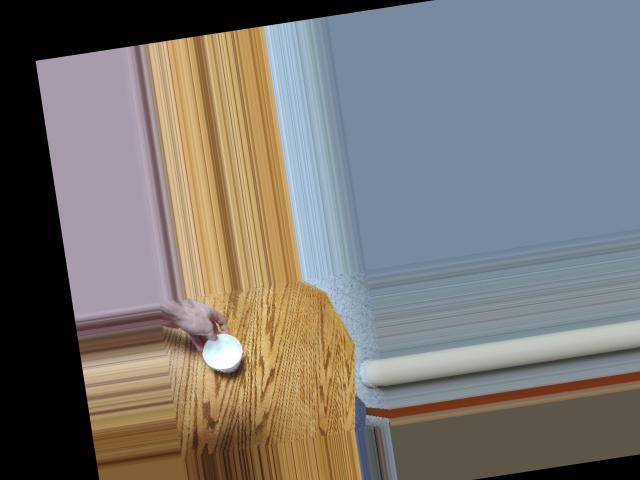cotage: (199, 328, 251, 373)
